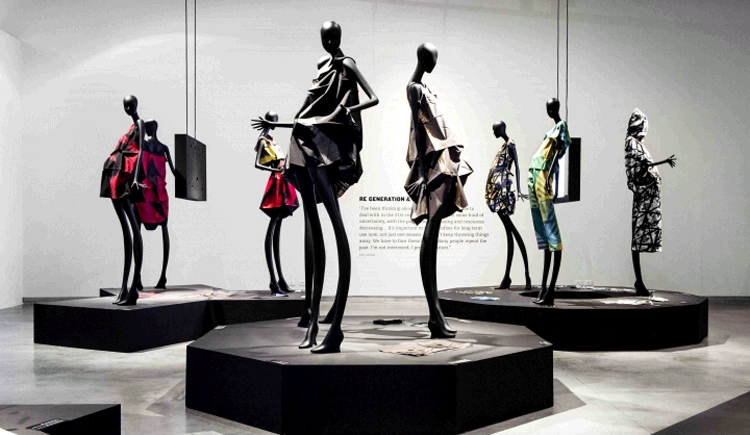person-like: (248, 15, 384, 359), (397, 36, 479, 343), (615, 99, 683, 300), (94, 89, 155, 310), (523, 92, 576, 308), (482, 114, 537, 295), (251, 109, 301, 296), (134, 116, 182, 294)
